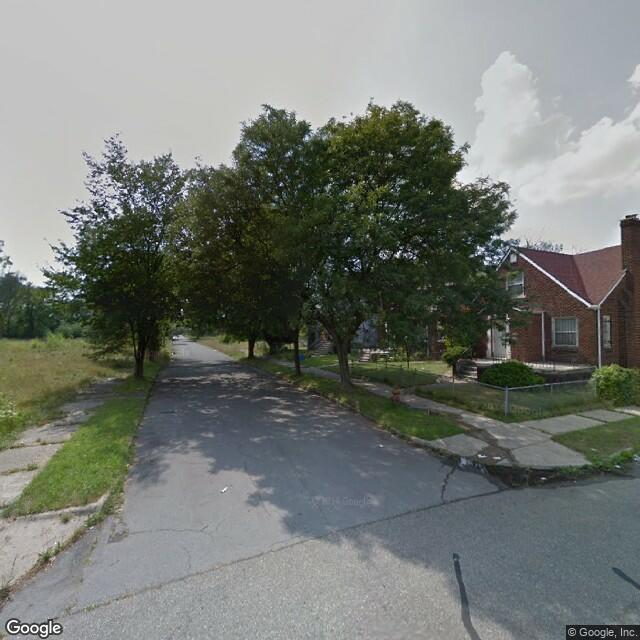litter: (220, 483, 230, 496), (492, 454, 503, 462), (613, 462, 622, 470), (479, 454, 487, 460), (542, 474, 546, 483), (380, 444, 384, 449)
